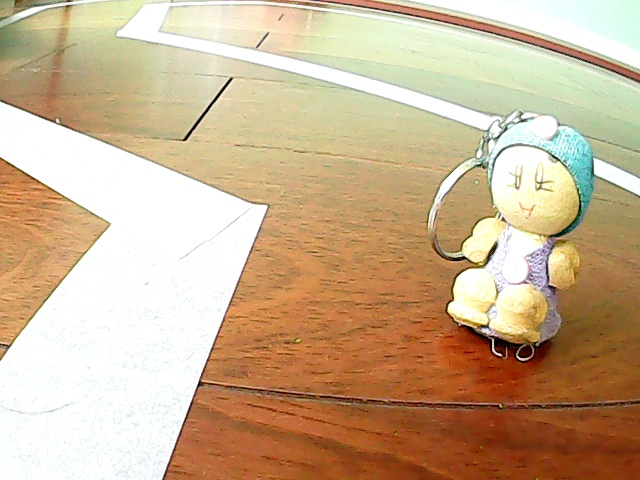pedestrain: (424, 100, 602, 370)
